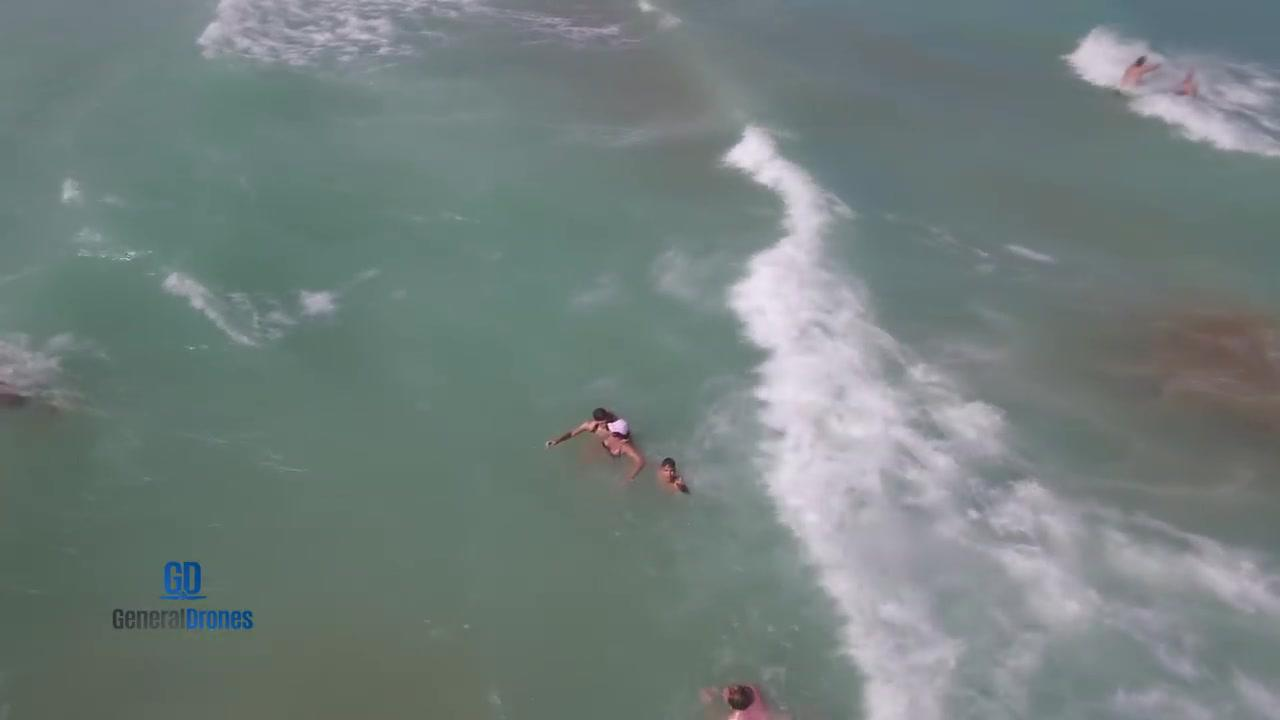human: (539, 398, 650, 480), (692, 657, 779, 720), (647, 449, 704, 499), (581, 394, 624, 430)
